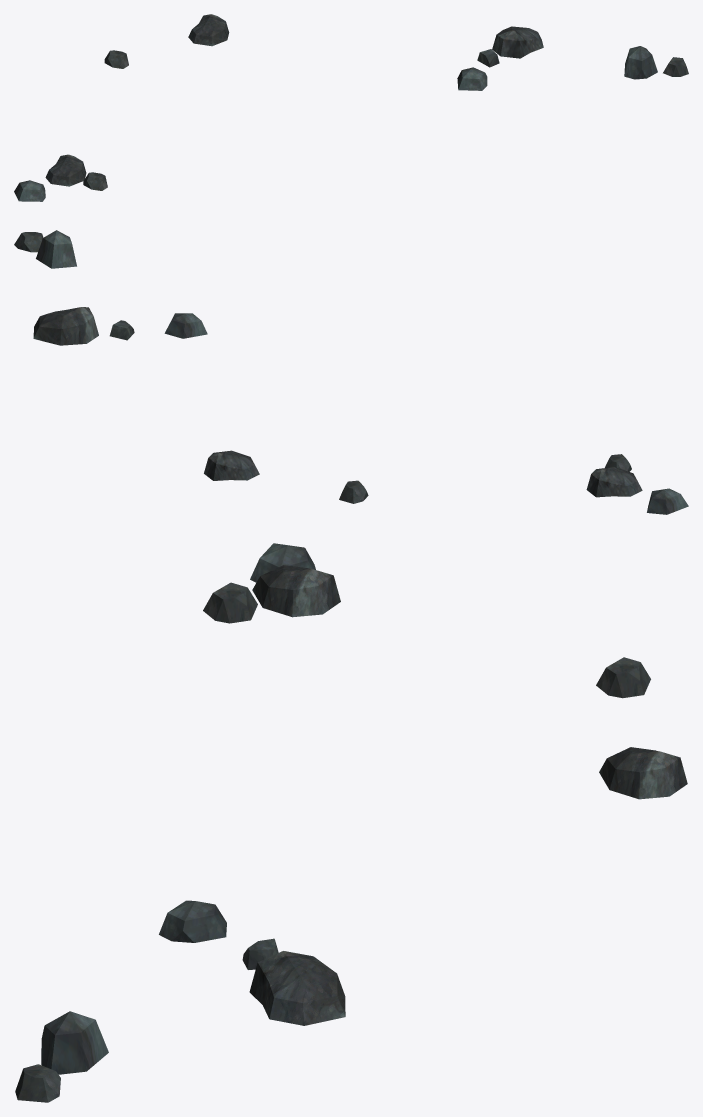
Rendered from object_rubble05.fbx.
3 views of the same model, one above another, from view 1: azimuth 30°, elevation 25°; view 2: azimuth 150°, elevation 25°; view 3: azimuth 270°, elevation 25° (orthographic). The views are drawn at different scales.
Visible parts, largest first — view 1: obj0.082; view 2: obj0.082; view 3: obj0.082.
Boxes of the visible parts, bbox=[...] form: obj0.082: bbox=[14, 14, 688, 201]; obj0.082: bbox=[14, 230, 688, 514]; obj0.082: bbox=[15, 543, 687, 1102].
Bounding box in the file's own units: 9.4 × 0.7986 × 4.47.
